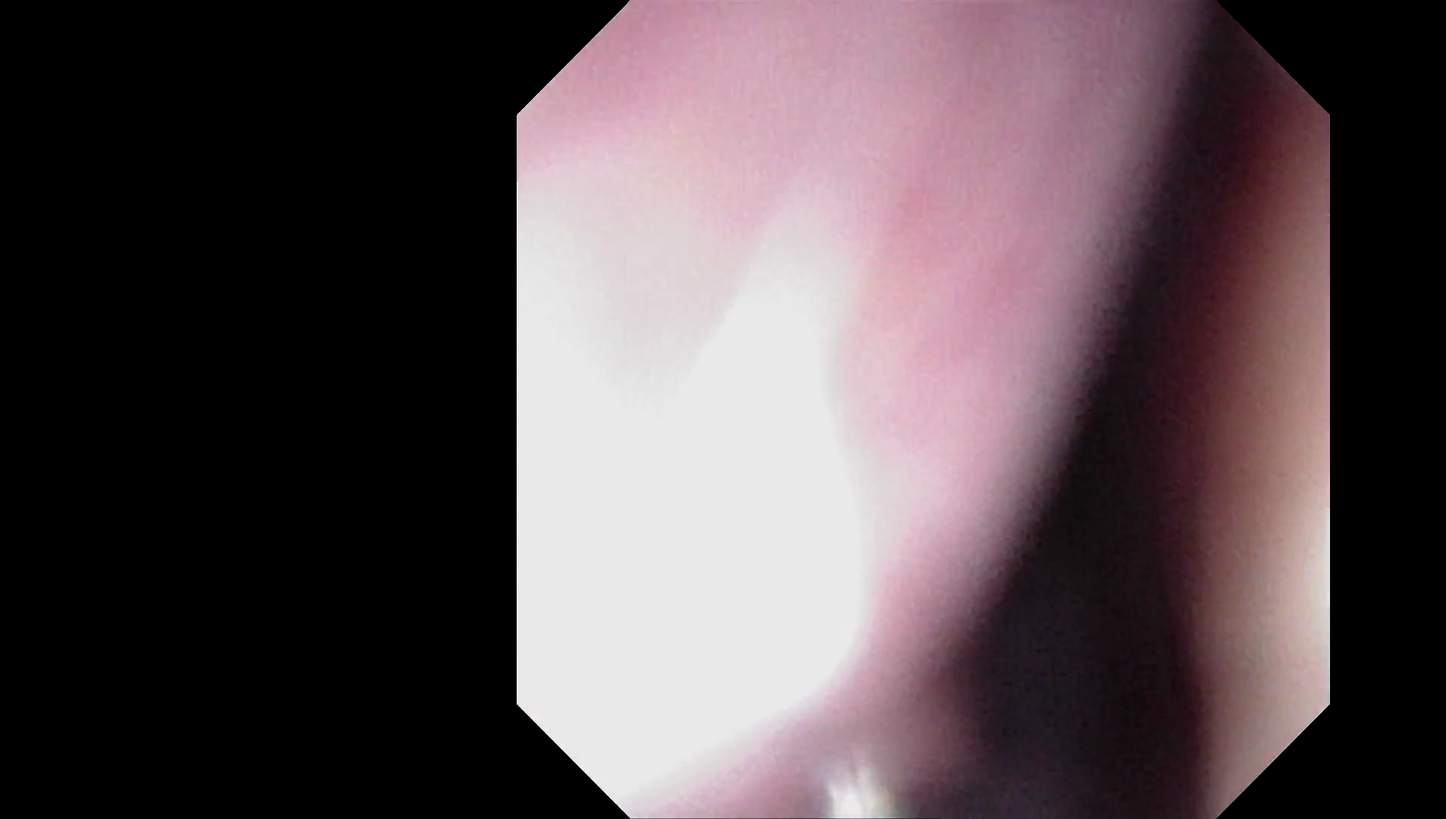close_wall: (529, 138, 1044, 703)
next: (953, 285, 1221, 802)
